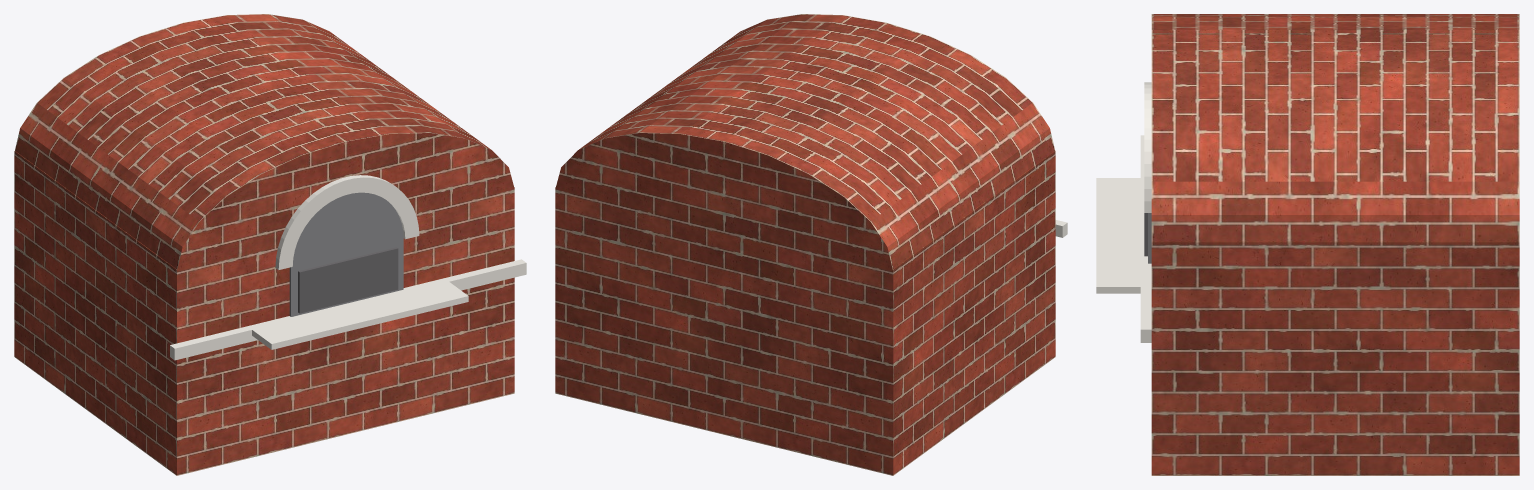
Rendered from bake_oven.glb.
3 views of the same model, side by side, from view 1: azimuth 30°, elevation 25°; view 2: azimuth 150°, elevation 25°; view 3: azimuth 270°, elevation 25° (orthographic). The views are drawn at different scales.
Visible parts, largest first — view 1: bake_oven_brick, bake_oven_trim, bake_oven_dark, bake_oven_iron; view 2: bake_oven_brick; view 3: bake_oven_brick, bake_oven_trim.
Boxes of the visible parts, box(x1,y1,x2,y2) form: bake_oven_brick: box(14, 14, 514, 475); bake_oven_trim: box(170, 175, 526, 360); bake_oven_dark: box(289, 192, 403, 316); bake_oven_iron: box(298, 247, 398, 313); bake_oven_brick: box(555, 14, 1055, 475); bake_oven_brick: box(1151, 14, 1519, 475); bake_oven_trim: box(1096, 82, 1151, 342).
Bounding box in the file's own units: 2.5 × 1.99 × 2.3.
Materials: 4 (1 with a texture image).
